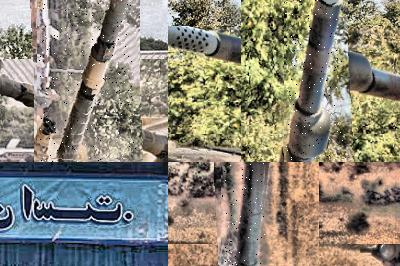tanks: (39, 1, 129, 163), (286, 1, 337, 163), (169, 142, 316, 163), (237, 163, 265, 266)
